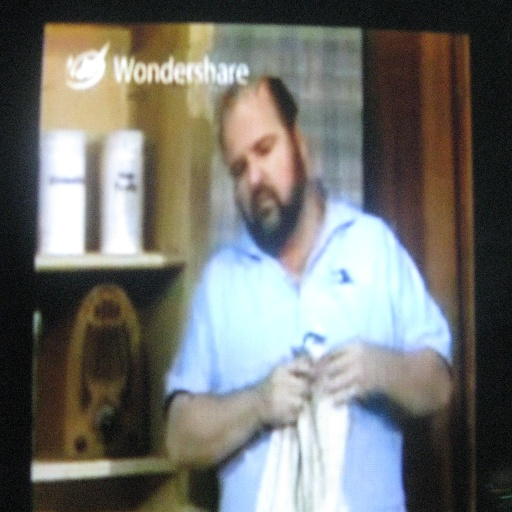hand: (241, 352, 326, 442), (310, 334, 389, 406)
